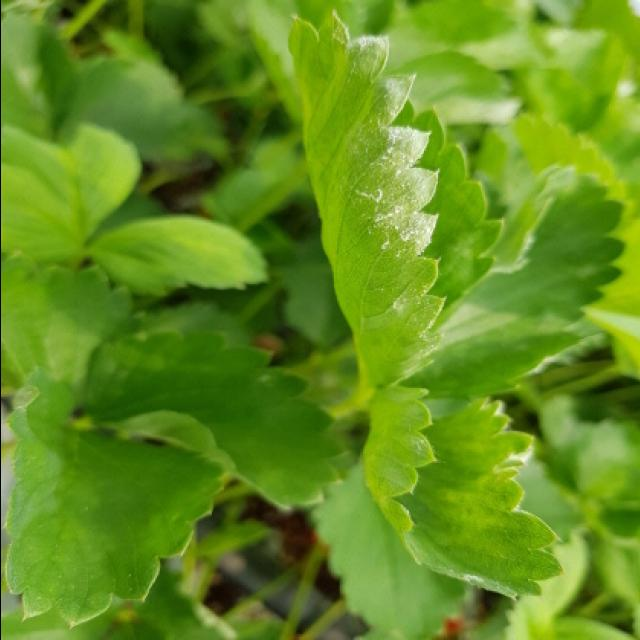Powdery Mildew Leaf: (286, 3, 504, 388), (361, 386, 564, 601)
